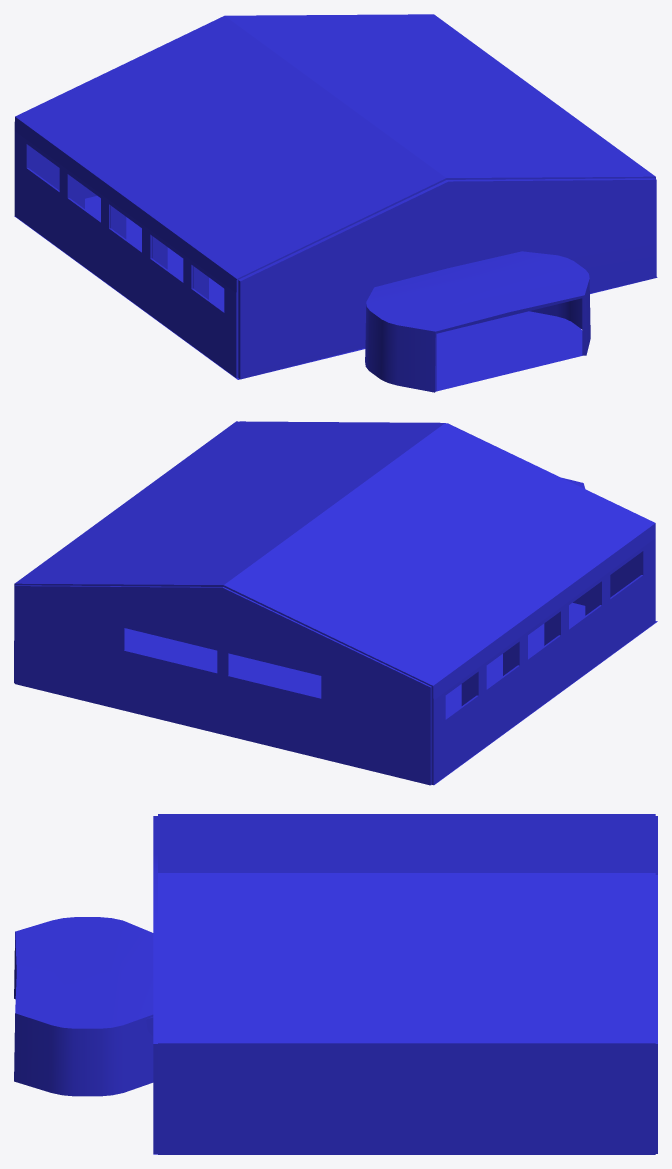
3 renders of one model, top to bottom at view 1: azimuth 30°, elevation 25°; view 2: azimuth 150°, elevation 25°; view 3: azimuth 270°, elevation 25°, orthographic. The views are drawn at different scales.
Visible parts, largest first — view 1: Roof, Entrance, Floor, Supports; view 2: Roof, Back, Floor, Supports, Entrance; view 3: Roof, Entrance, Back.
Part boxes in pixels (left/top/right/bottom): Roof: left=14, top=14, right=655, bottom=378; Entrance: left=238, top=178, right=656, bottom=392; Floor: left=14, top=195, right=657, bottom=391; Supports: left=28, top=145, right=208, bottom=299; Roof: left=14, top=421, right=655, bottom=784; Back: left=14, top=585, right=431, bottom=785; Floor: left=125, top=602, right=657, bottom=784; Supports: left=461, top=552, right=641, bottom=705; Entrance: left=240, top=421, right=655, bottom=620; Roof: left=158, top=814, right=655, bottom=1154; Entrance: left=14, top=816, right=157, bottom=1153; Back: left=655, top=816, right=657, bottom=1153.
Bounding box in the file's own units: 4486 × 1519 × 5306.
